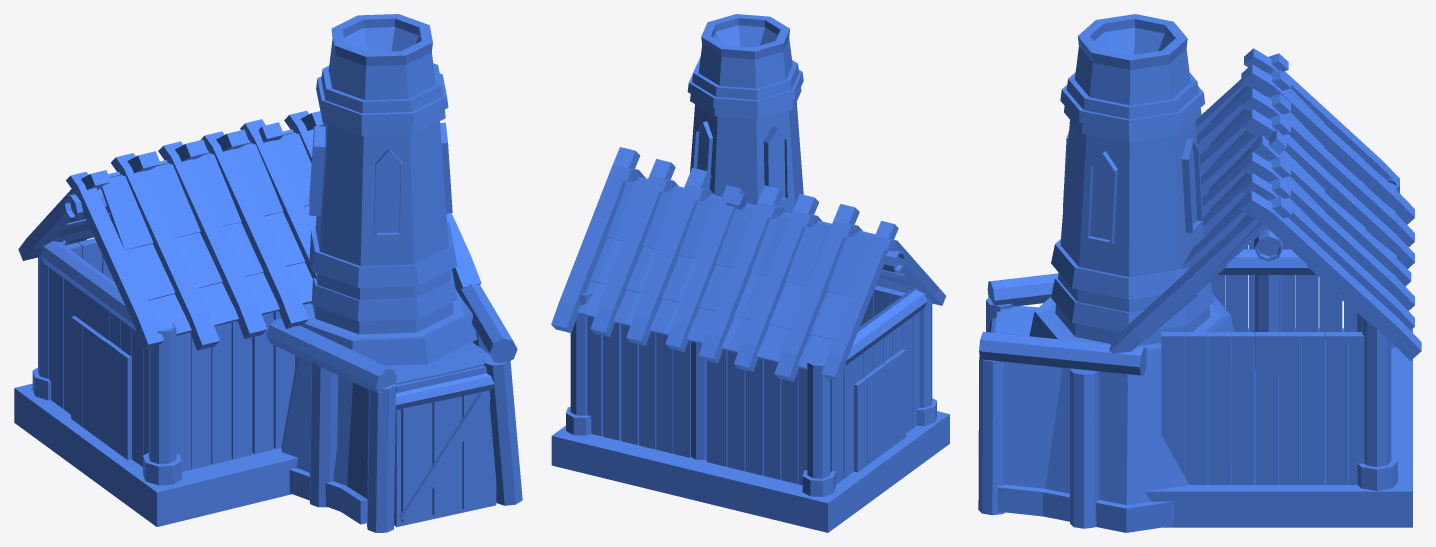
File: Workshop_Variant1.fbx
3 views of the same model, side by side, from view 1: azimuth 30°, elevation 25°; view 2: azimuth 150°, elevation 25°; view 3: azimuth 270°, elevation 25° (orthographic). The views are drawn at different scales.
Parts seen in each view (by area): view 1: Workshop_Variant1; view 2: Workshop_Variant1; view 3: Workshop_Variant1.
Part boxes in pixels (left/top/right/bottom): Workshop_Variant1: left=14, top=14, right=522, bottom=532; Workshop_Variant1: left=551, top=14, right=949, bottom=532; Workshop_Variant1: left=978, top=14, right=1421, bottom=532.
Size of the model in its own units: 398 by 466 by 420.
